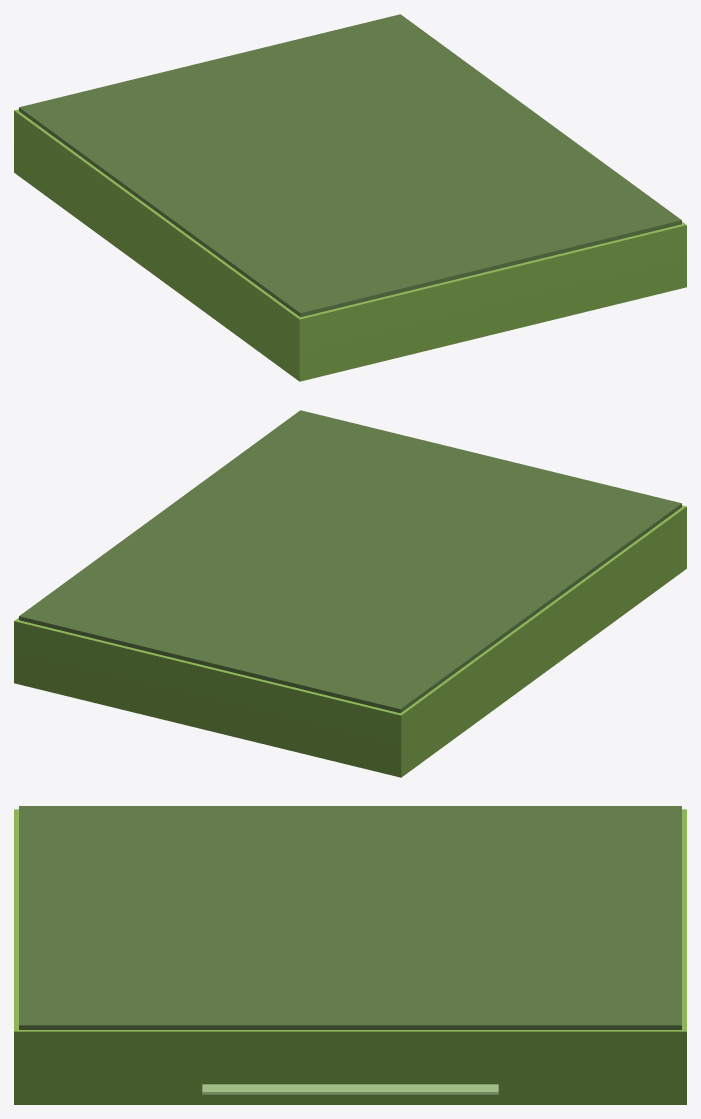
The picture shows the model from 3 angles, top to bottom: view 1: azimuth 30°, elevation 25°; view 2: azimuth 150°, elevation 25°; view 3: azimuth 270°, elevation 25°; orthographic projection. The views are drawn at different scales.
Parts seen in each view (by area): view 1: shell; view 2: shell; view 3: shell.
Boxes of the visible parts, x1,y1,x2,y2 form: shell: (14, 14, 686, 381); shell: (14, 410, 686, 777); shell: (14, 806, 686, 1104).
Size of the model in its own units: 93.2 by 14.7 by 115.
